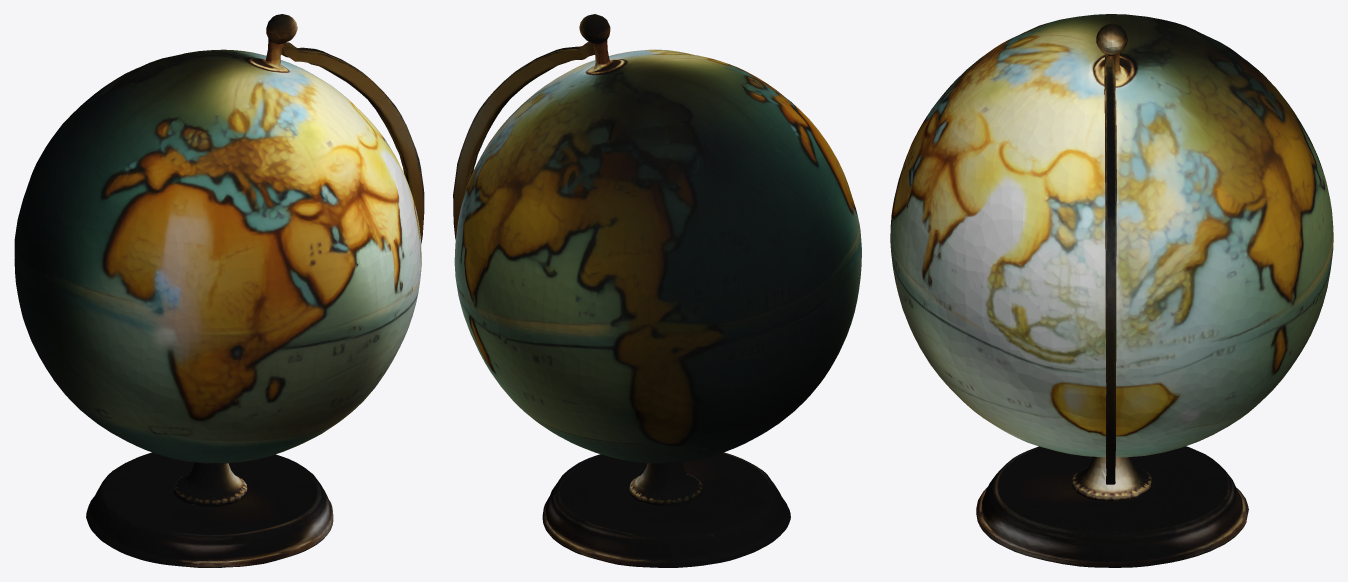
The model's file is porcelain-globe-vintage.jpeg.glb.
3 renders of one model, left to right at view 1: azimuth 30°, elevation 25°; view 2: azimuth 150°, elevation 25°; view 3: azimuth 270°, elevation 25°, orthographic. The views are drawn at different scales.
Visible parts, largest first — view 1: world; view 2: world; view 3: world.
Part boxes in pixels (left/top/right/bottom): world: left=14, top=14, right=424, bottom=567; world: left=453, top=14, right=861, bottom=567; world: left=890, top=14, right=1333, bottom=567.
Size of the model in its own units: 0.823 by 1 by 0.766.
Materials: 1 (1 with a texture image).
